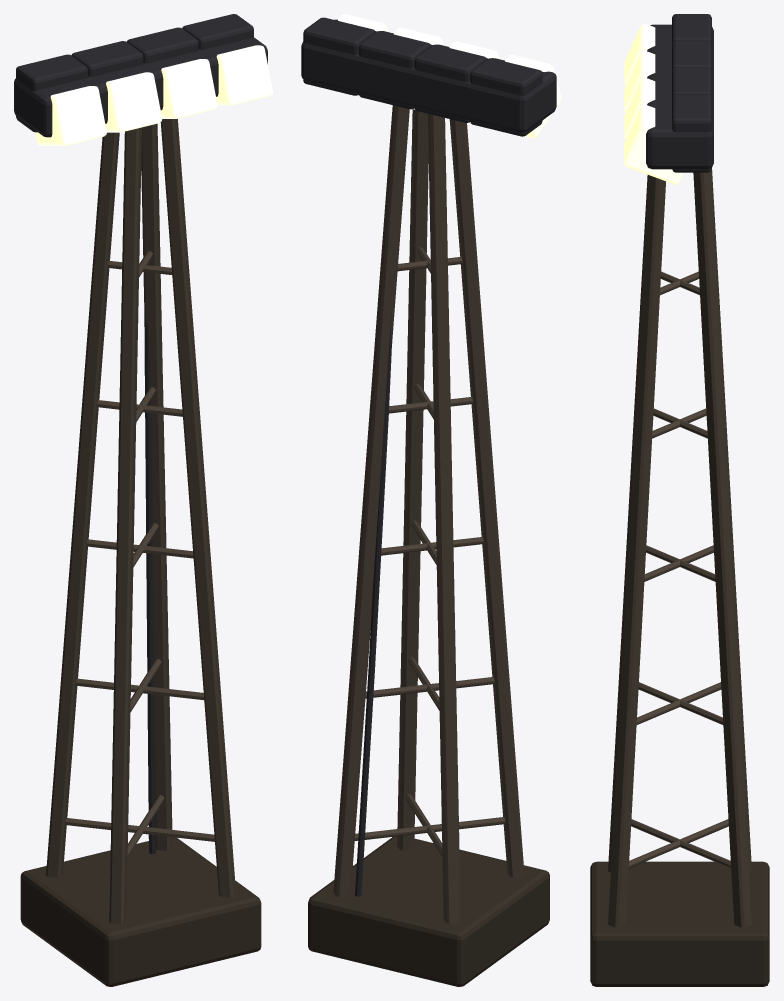
The model's file is floodlight.glb.
3 views of the same model, side by side, from view 1: azimuth 30°, elevation 25°; view 2: azimuth 150°, elevation 25°; view 3: azimuth 270°, elevation 25° (orthographic).
Visible parts, largest first — view 1: floodlight; view 2: floodlight; view 3: floodlight.
Part boxes in pixels (x1,y1,x2,y2): floodlight: (14,14,272,986); floodlight: (301,14,561,986); floodlight: (590,14,769,986).
Bounding box in the file's own units: 1.3 × 4.91 × 0.9.
